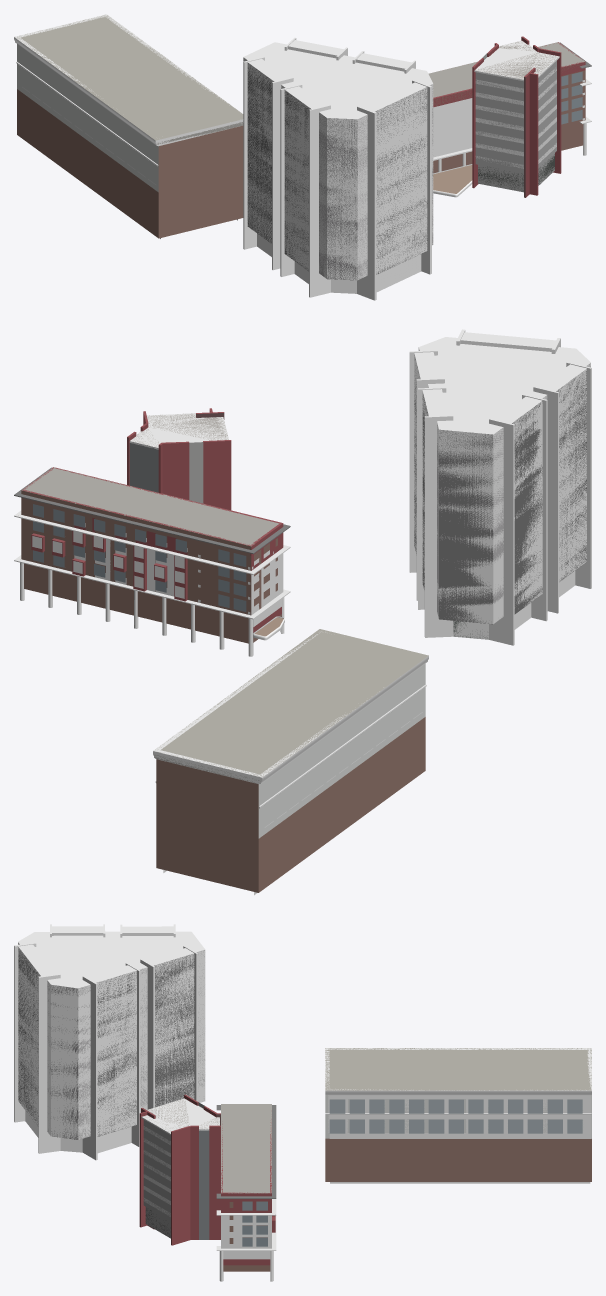
Rendered from dockyards_apartments.dae.
The picture shows the model from 3 angles, top to bottom: view 1: azimuth 30°, elevation 25°; view 2: azimuth 150°, elevation 25°; view 3: azimuth 270°, elevation 25°; orthographic projection. The views are drawn at different scales.
Visible parts, largest first — view 1: dockyards_apartments_a1500, dockyards_apartments_a400; view 2: dockyards_apartments_a400, dockyards_apartments_a1500; view 3: dockyards_apartments_a1500, dockyards_apartments_a400.
Boxes of the visible parts, bbox=[...] form: dockyards_apartments_a1500: bbox=[14, 14, 591, 300]; dockyards_apartments_a400: bbox=[15, 14, 585, 280]; dockyards_apartments_a400: bbox=[21, 350, 590, 892]; dockyards_apartments_a1500: bbox=[14, 329, 591, 895]; dockyards_apartments_a1500: bbox=[14, 924, 591, 1281]; dockyards_apartments_a400: bbox=[18, 944, 591, 1271].
Size of the model in its own units: 93.48 by 131 by 56.16.
